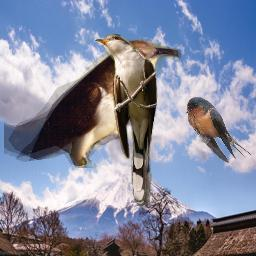Cuckoo: (4, 39, 181, 168), (94, 34, 158, 206)
Swallow: (185, 96, 251, 163)
